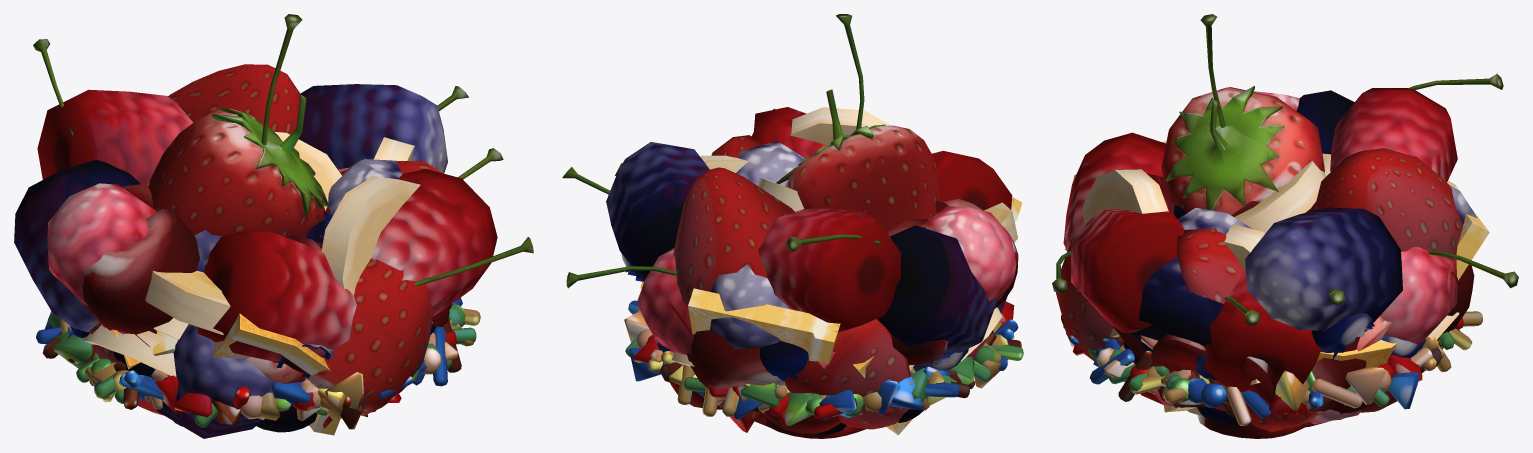
The model's file is bowls_relleno.fbx.
3 renders of one model, left to right at view 1: azimuth 30°, elevation 25°; view 2: azimuth 150°, elevation 25°; view 3: azimuth 270°, elevation 25°, orthographic. The views are drawn at different scales.
Visible parts, largest first — view 1: rasberry_bowl, full_strwaberry_bowl, blackberry_bowl, sprinkle_bowl, banana_bowl, half_cherry_bowl, full_cherry_bowl, part_lemon_bowl, blueberry_bowl, half_strwaberry_bowl; view 2: rasberry_bowl, blackberry_bowl, full_strwaberry_bowl, sprinkle_bowl, half_strwaberry_bowl, half_cherry_bowl, part_lemon_bowl, banana_bowl, blueberry_bowl, full_cherry_bowl; view 3: rasberry_bowl, full_strwaberry_bowl, blackberry_bowl, sprinkle_bowl, banana_bowl, half_cherry_bowl, half_strwaberry_bowl, full_cherry_bowl, blueberry_bowl, part_lemon_bowl.
Part boxes in pixels (<box>): rasberry_bowl: <box>37,89,497,362</box>; full_strwaberry_bowl: <box>148,64,433,417</box>; blackberry_bowl: <box>14,84,447,438</box>; sprinkle_bowl: <box>36,297,480,429</box>; banana_bowl: <box>82,132,432,377</box>; half_cherry_bowl: <box>82,208,452,334</box>; full_cherry_bowl: <box>33,14,533,377</box>; part_lemon_bowl: <box>113,313,340,435</box>; blueberry_bowl: <box>67,212,439,432</box>; half_strwaberry_bowl: <box>89,161,442,428</box>; rasberry_bowl: <box>637,107,1016,418</box>; blackberry_bowl: <box>606,141,1007,355</box>; full_strwaberry_bowl: <box>673,89,940,305</box>; sprinkle_bowl: <box>624,291,1023,426</box>; half_strwaberry_bowl: <box>668,135,986,432</box>; half_cherry_bowl: <box>670,198,1018,438</box>; part_lemon_bowl: <box>640,197,1022,435</box>; banana_bowl: <box>672,107,1017,392</box>; blueberry_bowl: <box>621,253,993,436</box>; full_cherry_bowl: <box>562,14,928,288</box>; rasberry_bowl: <box>1063,88,1457,424</box>; full_strwaberry_bowl: <box>1056,86,1462,431</box>; blackberry_bowl: <box>1131,90,1477,346</box>; sprinkle_bowl: <box>1061,311,1482,425</box>; banana_bowl: <box>1082,141,1459,415</box>; half_cherry_bowl: <box>1111,175,1474,438</box>; half_strwaberry_bowl: <box>1086,228,1457,427</box>; full_cherry_bowl: <box>1052,14,1518,420</box>; blueberry_bowl: <box>1065,248,1425,425</box>; part_lemon_bowl: <box>1073,174,1489,412</box>.
Size of the model in its own units: 187 by 156 by 178.
